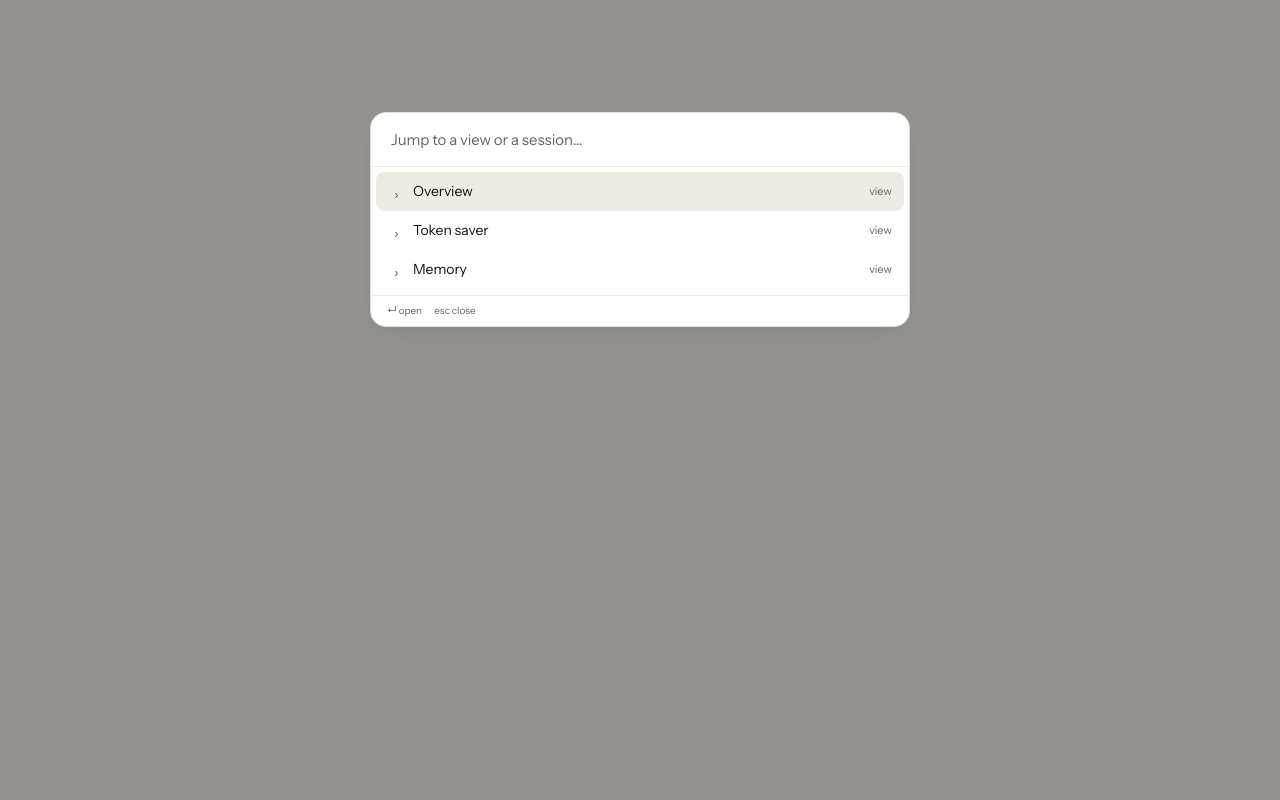
Test: CommandPalette › shows an honest empty state rather than a blank list
Type "zzz" into the field named "Search commands". click: coordinates (640, 140)
box: [371,113,909,167]
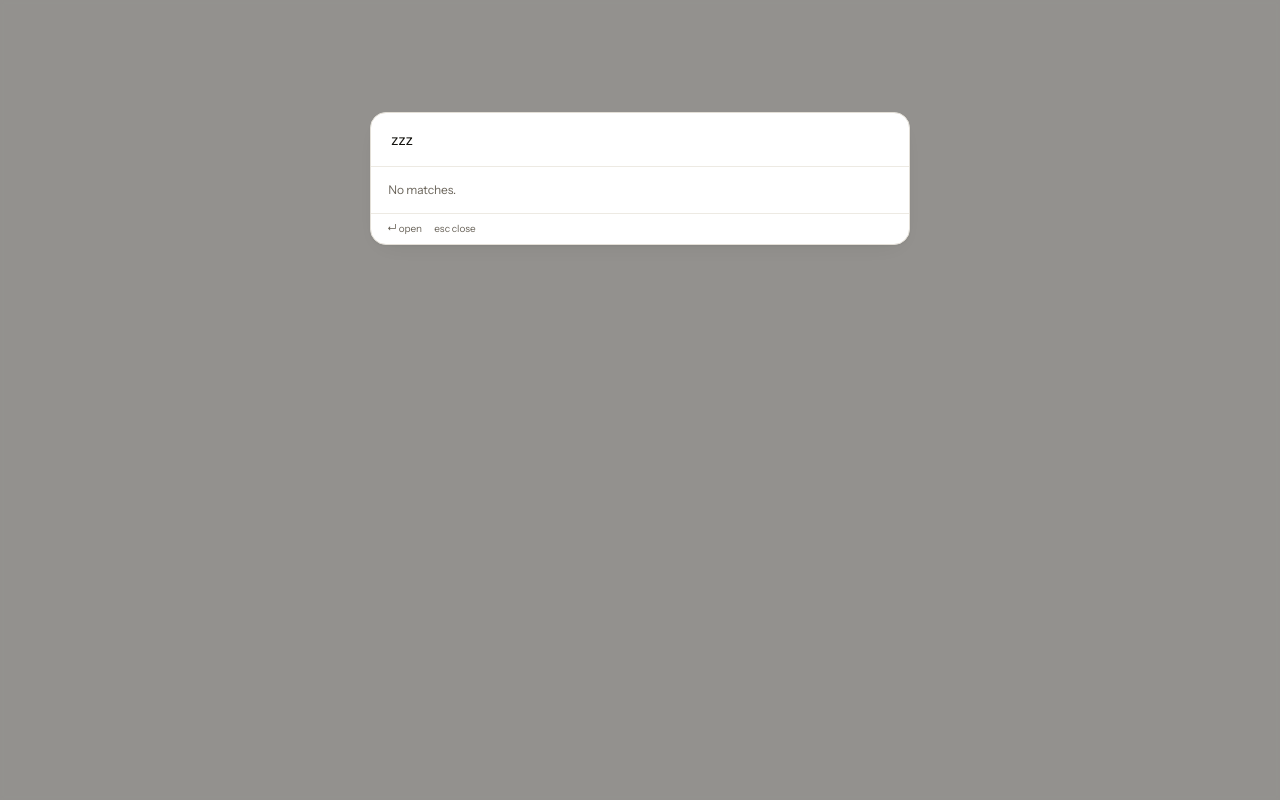
Result: the list item "No matches." is shown at [388,182,456,197]
